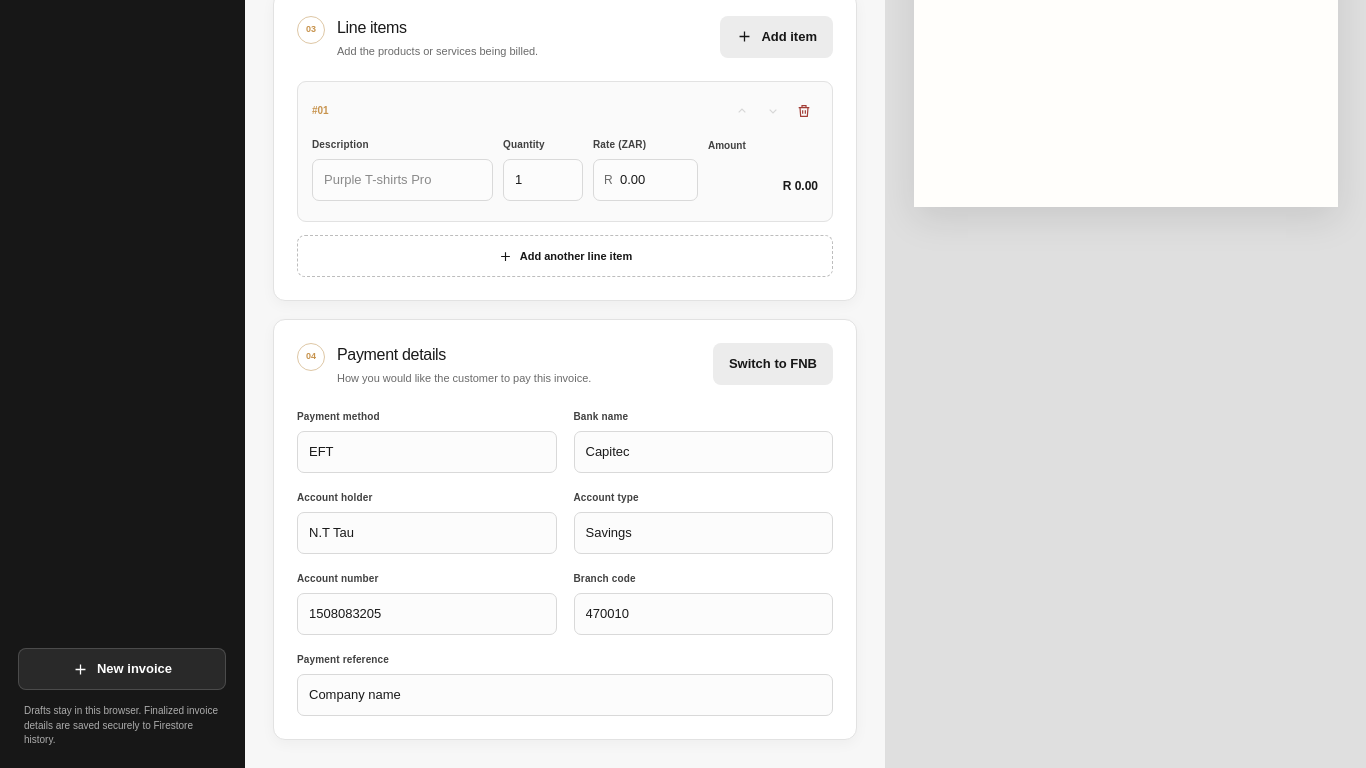
it: invoice workspace › updates and saves payment details per invoice
(page scrolled)
Replace the text in the field labelled "Bank name" with "First National Bank" at (703, 452), box [574,430,833,472]
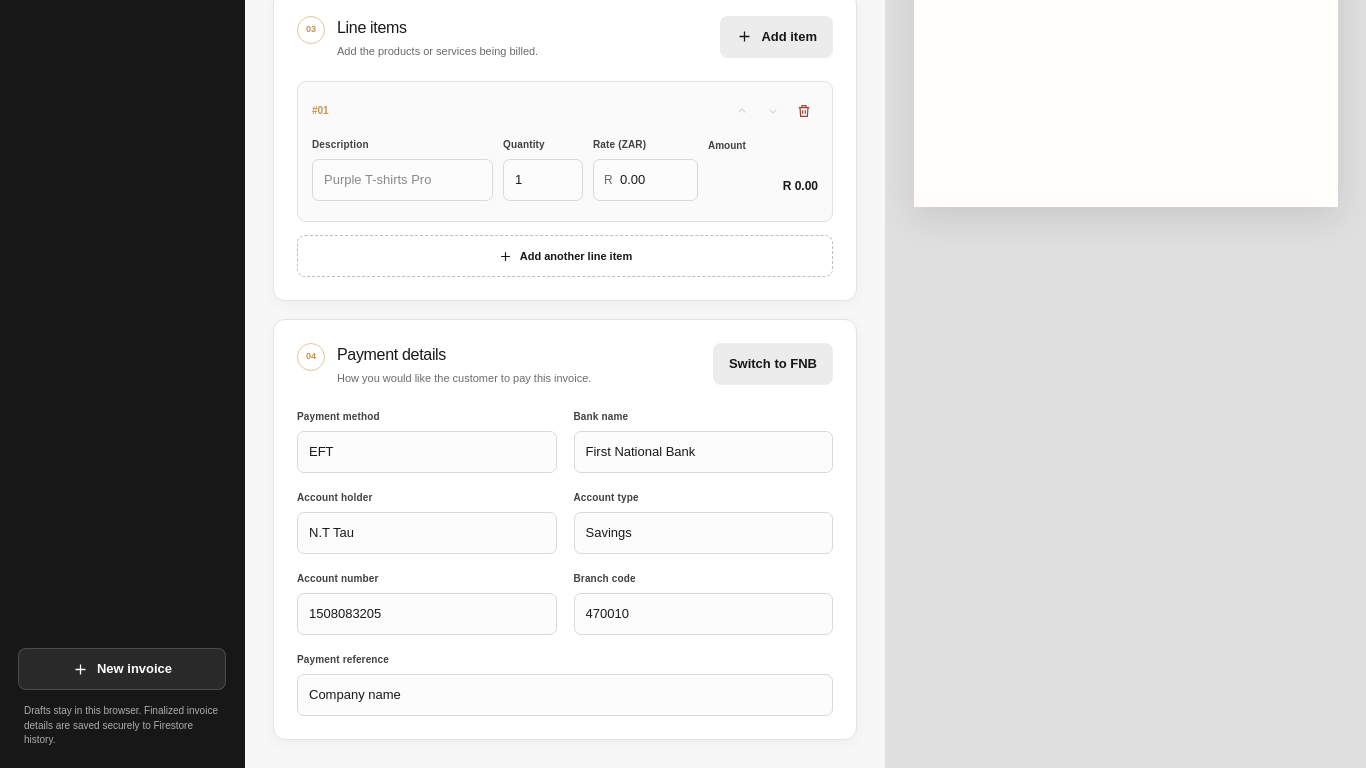
Replace the text in the field labelled "Account number" with "62000000000" at (427, 614), box [297,592,556,634]
(page scrolled)
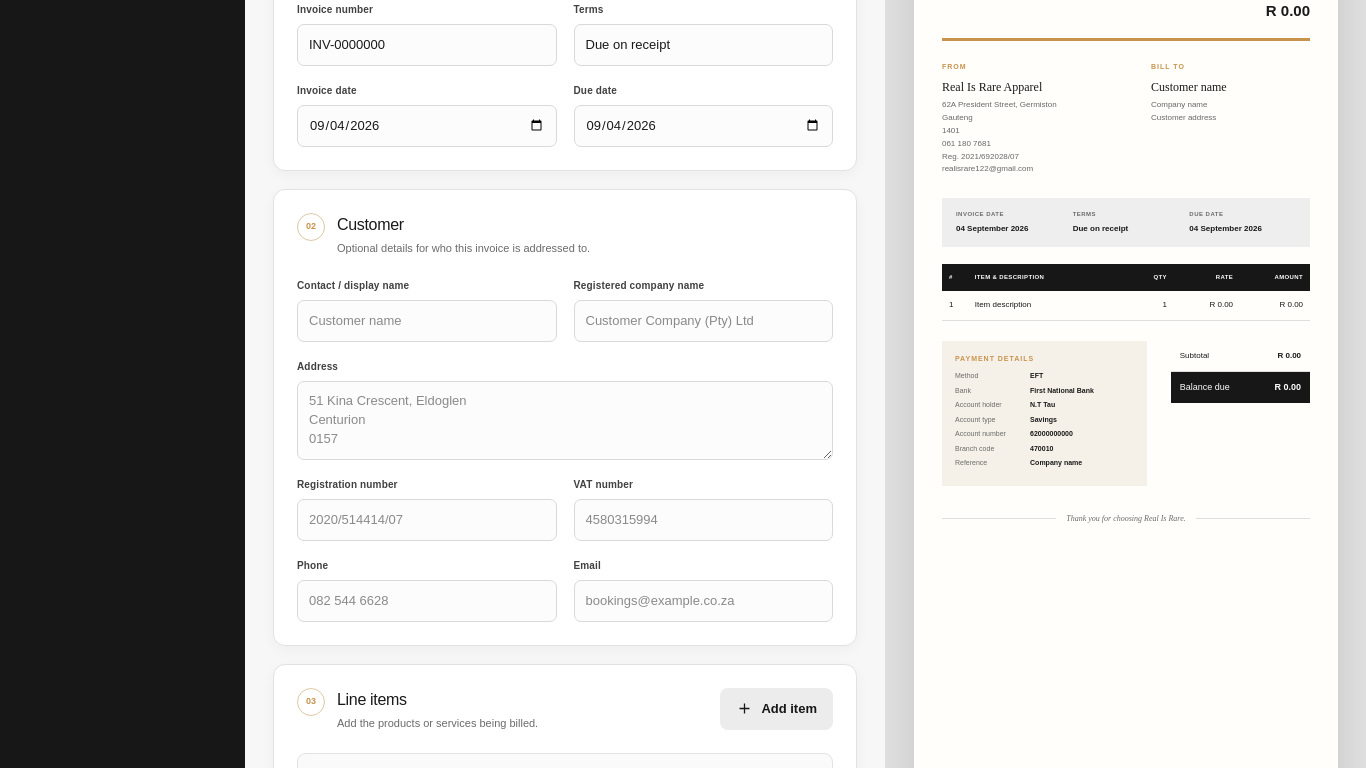
Result: the element named "Live invoice preview" shows "First National Bank" at [1030,387,1094,394]
Result: the element named "Live invoice preview" shows "62000000000" at [1030,430,1073,437]
